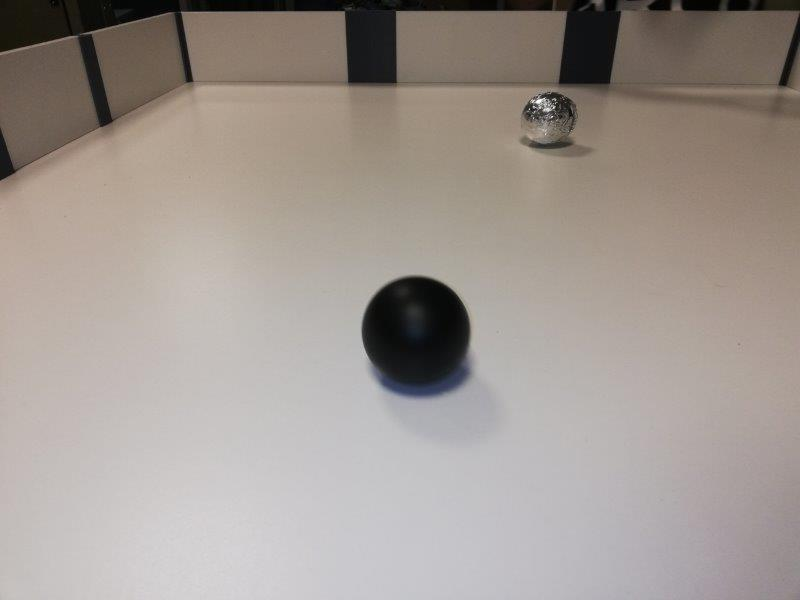bianca: (519, 89, 578, 147)
nera: (364, 276, 469, 384)
